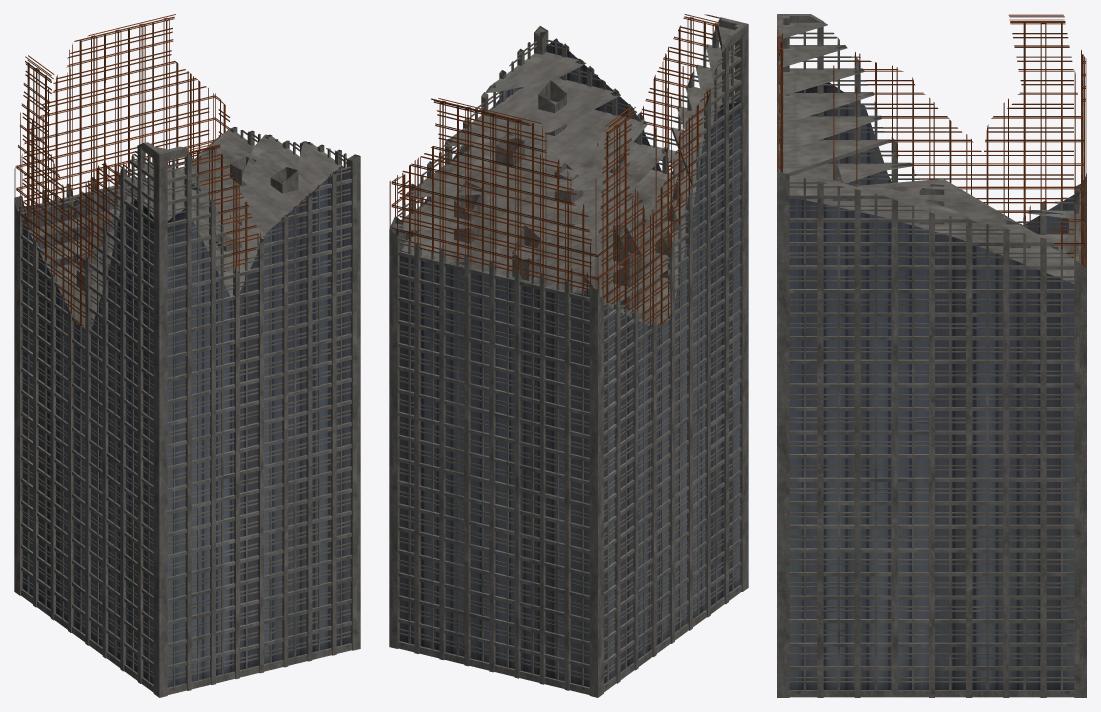
The model's file is building-07.glb.
3 views of the same model, side by side, from view 1: azimuth 30°, elevation 25°; view 2: azimuth 150°, elevation 25°; view 3: azimuth 270°, elevation 25° (orthographic). The views are drawn at different scales.
Visible parts, largest first — view 1: Building 07; view 2: Building 07; view 3: Building 07.
Boxes of the visible parts, box(x1,y1,x2,y2) form: Building 07: box(14, 14, 360, 697); Building 07: box(389, 14, 748, 697); Building 07: box(777, 14, 1086, 697).
Size of the model in its own units: 21 by 54.18 by 26.25.
3 materials, 3 textured.
